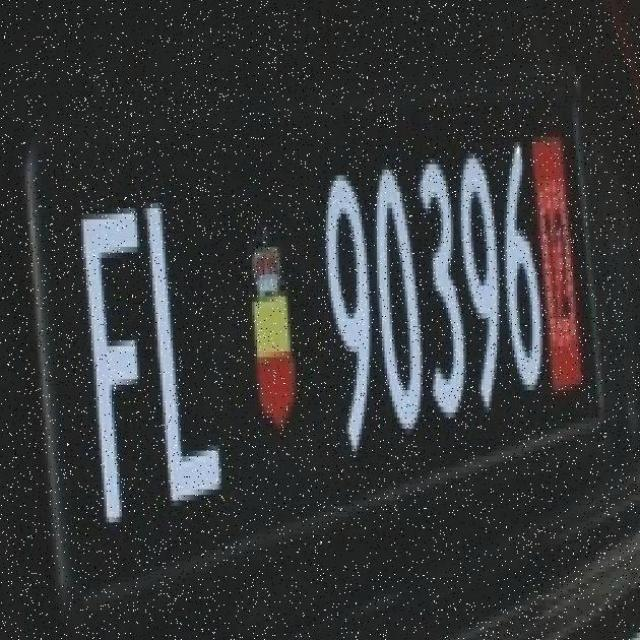LicensePlate: (22, 24, 626, 614)
